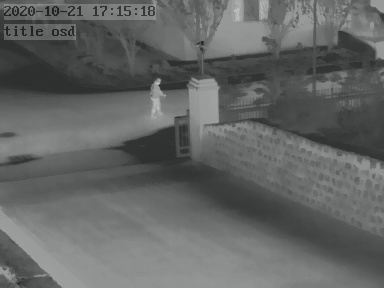person: (149, 76, 165, 115)
